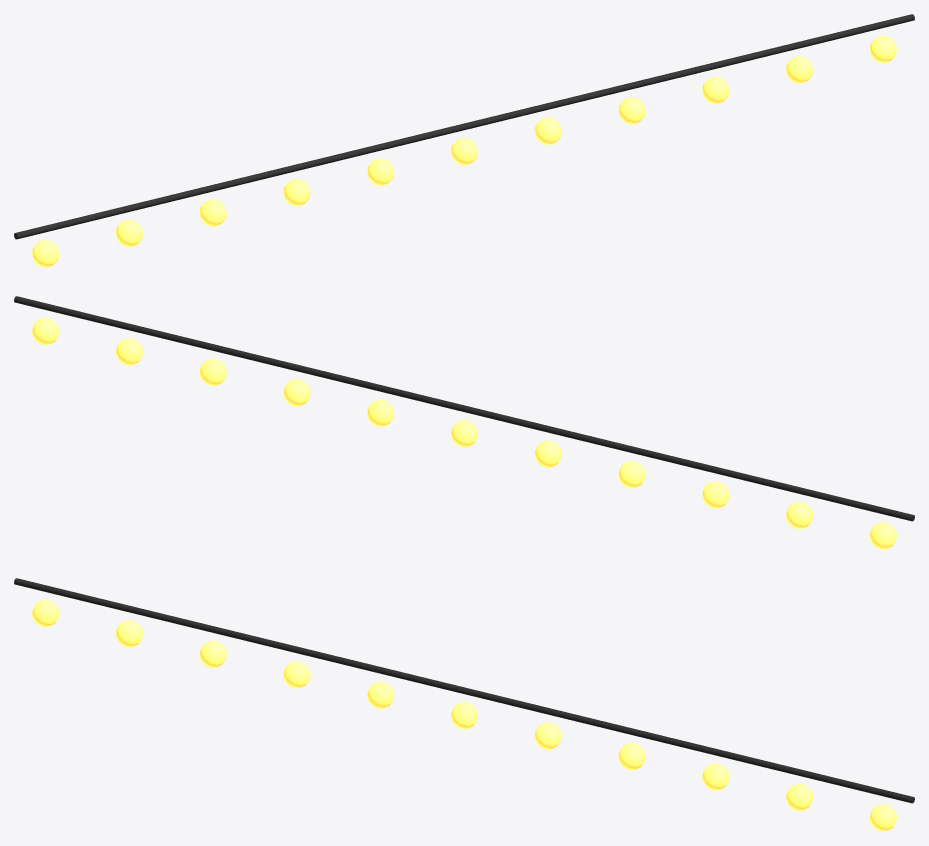
Rendered from string_lights.glb.
3 views of the same model, one above another, from view 1: azimuth 30°, elevation 25°; view 2: azimuth 150°, elevation 25°; view 3: azimuth 330°, elevation 25° (orthographic).
Bounding box in the file's own units: 3 × 0.13 × 0.0761.
